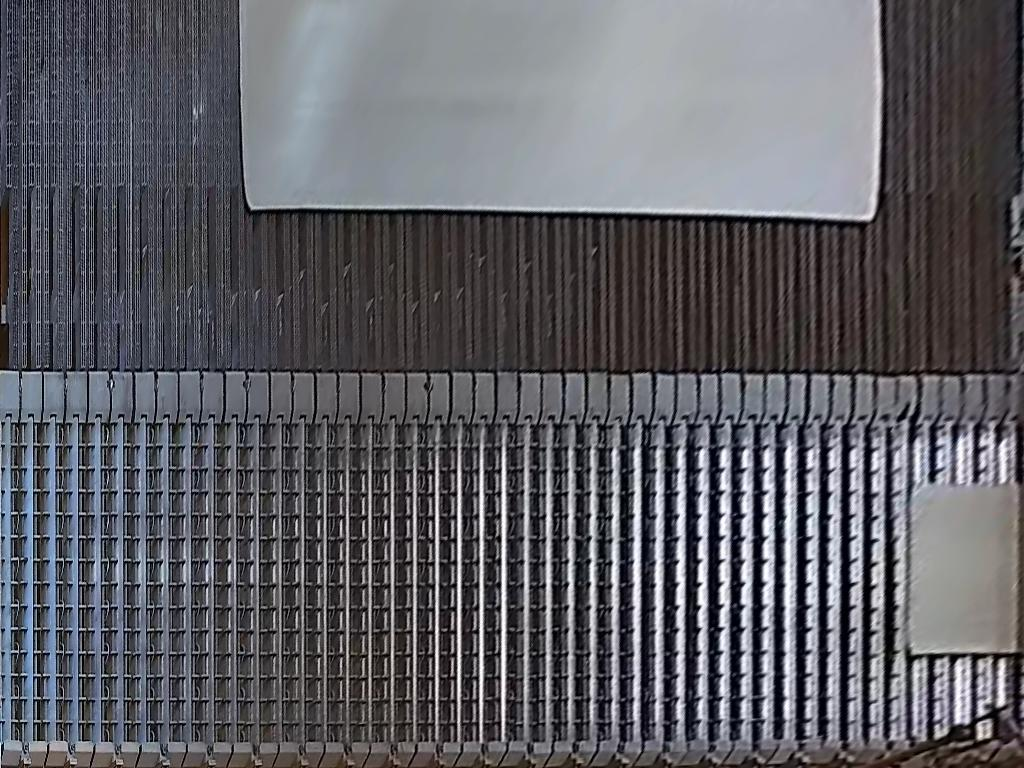steel: (241, 1, 880, 223), (906, 482, 1024, 655)
